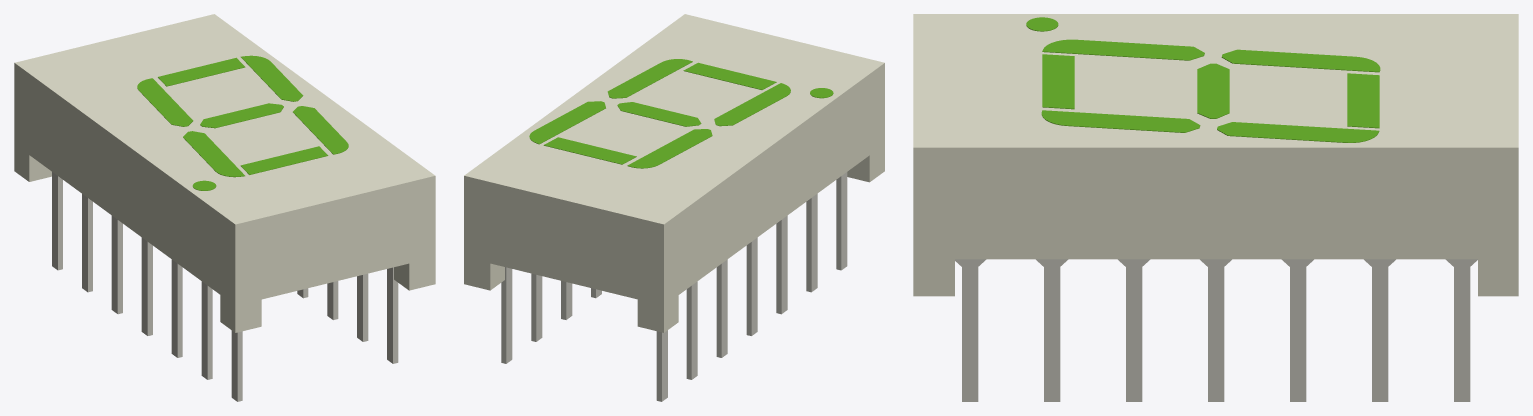
The model's file is kc-man3420a.glb.
The picture shows the model from 3 angles, left to right: view 1: azimuth 30°, elevation 25°; view 2: azimuth 150°, elevation 25°; view 3: azimuth 270°, elevation 25°; orthographic projection. The views are drawn at different scales.
Parts seen in each view (by area): view 1: 0.75_0.75_0.6666666666666666_0, 0.6666666666666666_0.6666666666666666_0.5833333333333334_0.8, 0.16666666666666666_0.4166666666666667_0_0; view 2: 0.75_0.75_0.6666666666666666_0, 0.6666666666666666_0.6666666666666666_0.5833333333333334_0.8, 0.16666666666666666_0.4166666666666667_0_0; view 3: 0.75_0.75_0.6666666666666666_0, 0.6666666666666666_0.6666666666666666_0.5833333333333334_0.8, 0.16666666666666666_0.4166666666666667_0_0.
Boxes of the visible parts, x1=… form: 0.75_0.75_0.6666666666666666_0: x1=14, y1=14, x2=435, y2=332; 0.6666666666666666_0.6666666666666666_0.5833333333333334_0.8: x1=52, y1=172, x2=398, y2=401; 0.16666666666666666_0.4166666666666667_0_0: x1=137, y1=55, x2=348, y2=190; 0.75_0.75_0.6666666666666666_0: x1=464, y1=14, x2=884, y2=332; 0.6666666666666666_0.6666666666666666_0.5833333333333334_0.8: x1=501, y1=172, x2=847, y2=401; 0.16666666666666666_0.4166666666666667_0_0: x1=529, y1=59, x2=833, y2=168; 0.75_0.75_0.6666666666666666_0: x1=913, y1=14, x2=1518, y2=296; 0.6666666666666666_0.6666666666666666_0.5833333333333334_0.8: x1=955, y1=259, x2=1477, y2=401; 0.16666666666666666_0.4166666666666667_0_0: x1=1026, y1=17, x2=1380, y2=142.
Size of the model in its own units: 0.98 by 0.916 by 1.88.
